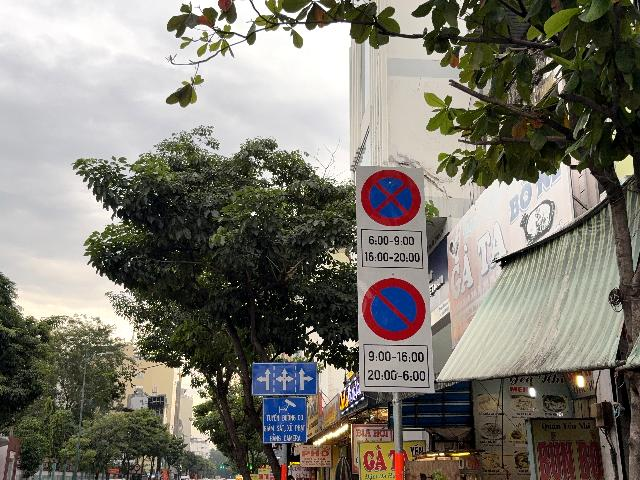cam-do-xe: (362, 279, 426, 341)
cam-dung-va-do-xe: (360, 169, 422, 227)
